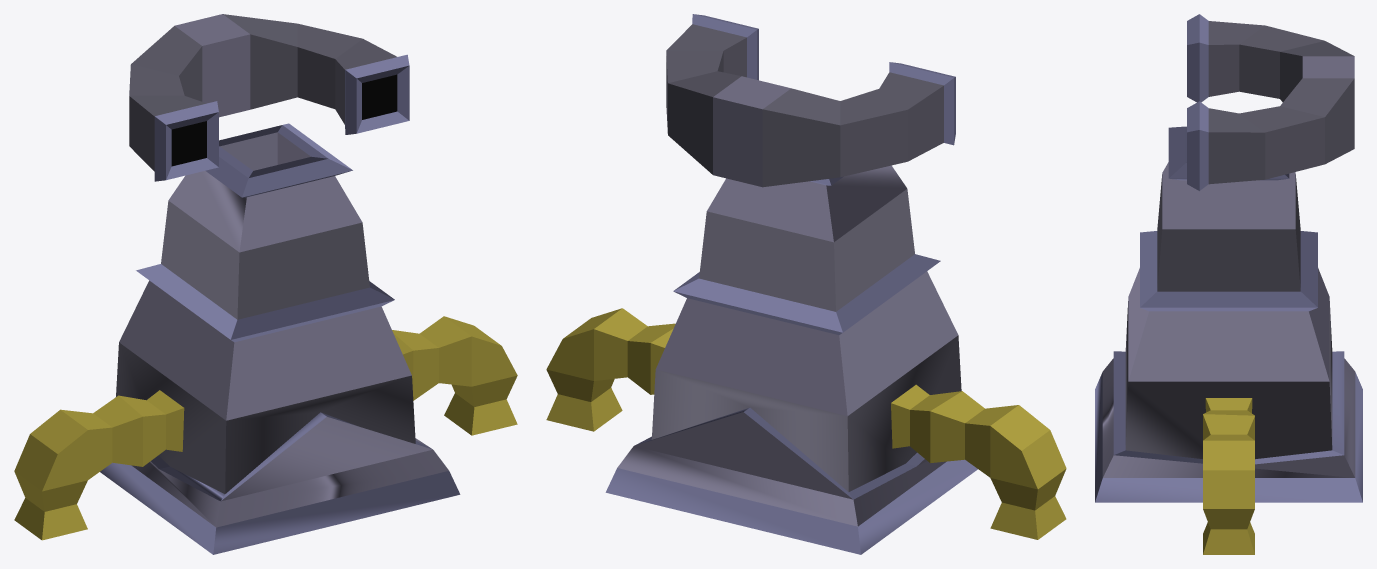
The model's file is lv2_heavy_turret.fbx.
3 renders of one model, left to right at view 1: azimuth 30°, elevation 25°; view 2: azimuth 150°, elevation 25°; view 3: azimuth 270°, elevation 25°, orthographic. The views are drawn at different scales.
Parts seen in each view (by area): view 1: Cube, Cube_3, Cube_2, Cube_1; view 2: Cube, Cube_3, Cube_2, Cube_1; view 3: Cube, Cube_3, Cube_1.
Part boxes in pixels (x1=…): Cube: x1=100, y1=123, x2=460, y2=554; Cube_3: x1=129, y1=14, x2=409, y2=181; Cube_2: x1=14, y1=390, x2=184, y2=540; Cube_1: x1=392, y1=316, x2=517, y2=435; Cube: x1=605, y1=165, x2=977, y2=554; Cube_3: x1=666, y1=14, x2=955, y2=187; Cube_2: x1=891, y1=384, x2=1066, y2=539; Cube_1: x1=546, y1=308, x2=675, y2=431; Cube: x1=1095, y1=126, x2=1362, y2=502; Cube_3: x1=1187, y1=14, x2=1354, y2=190; Cube_1: x1=1203, y1=398, x2=1254, y2=554.
Bounding box in the file's own units: 396 × 321 × 206.
